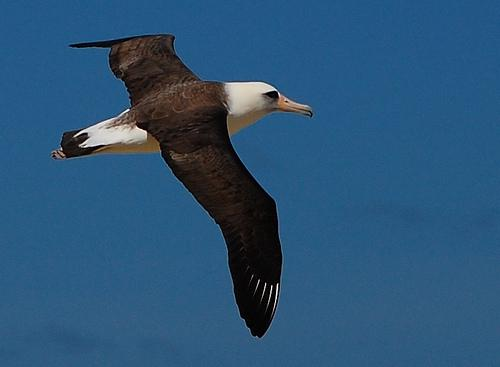002.Laysan_Albatross: (51, 34, 314, 338)
